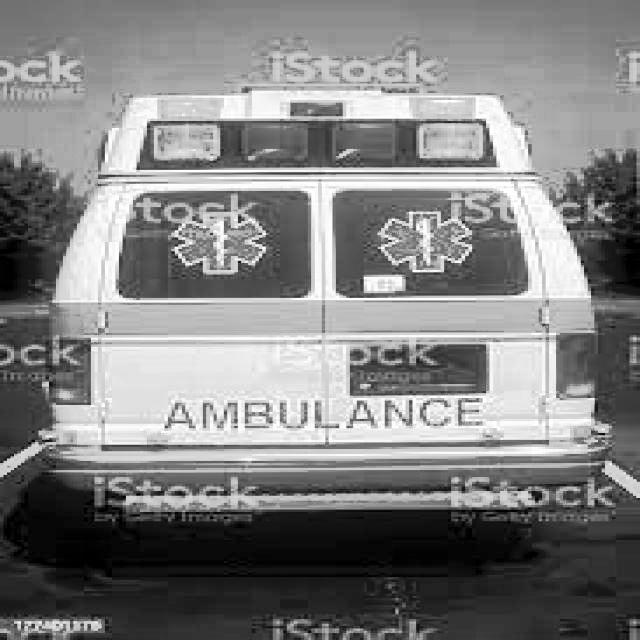LCV: (50, 98, 605, 476)
